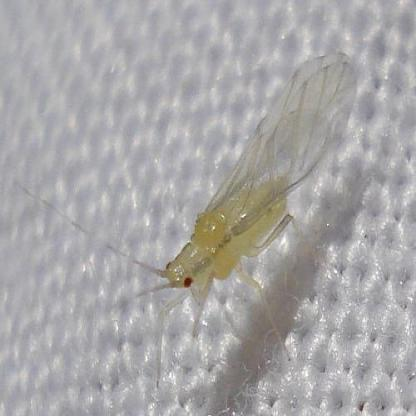aphid: (79, 49, 354, 376)
